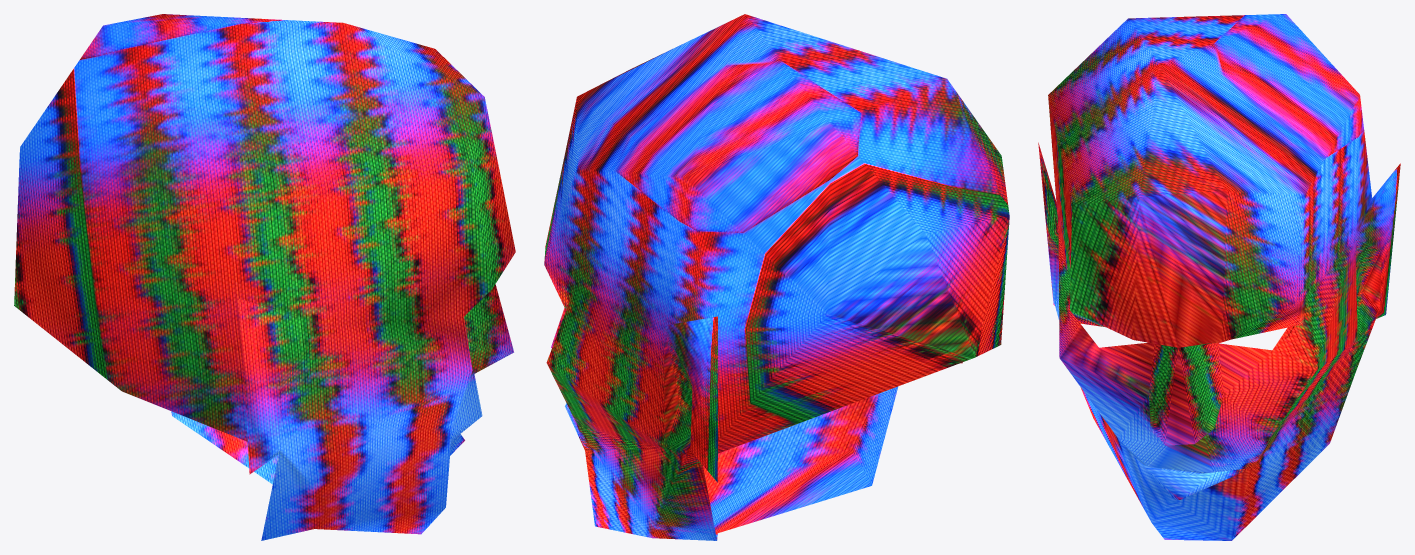
The model's file is Dancer5.glb.
3 renders of one model, left to right at view 1: azimuth 30°, elevation 25°; view 2: azimuth 150°, elevation 25°; view 3: azimuth 270°, elevation 25°, orthographic. The views are drawn at different scales.
Visible parts, largest first — view 1: CC_Base_Body.006; view 2: CC_Base_Body.006; view 3: CC_Base_Body.006.
Boxes of the visible parts, x1,y1,x2,y2 form: CC_Base_Body.006: (14, 14, 515, 540); CC_Base_Body.006: (544, 14, 1009, 540); CC_Base_Body.006: (1038, 14, 1400, 540).
Bounding box in the file's own units: 3.94 × 4.36 × 3.25.
Materials: 1 (1 with a texture image).
